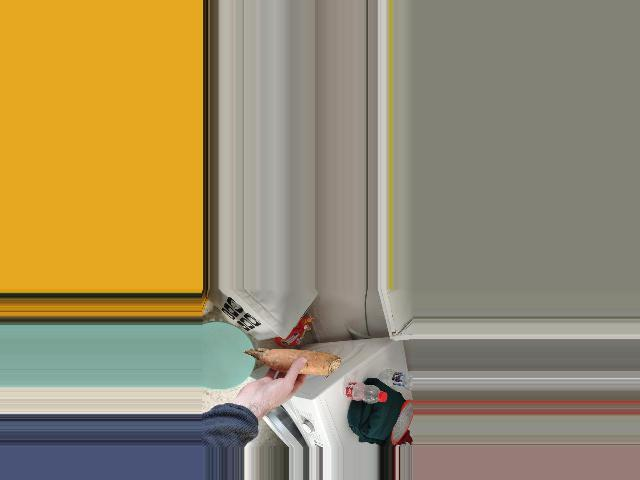sweet_potato: (248, 349, 339, 376)
